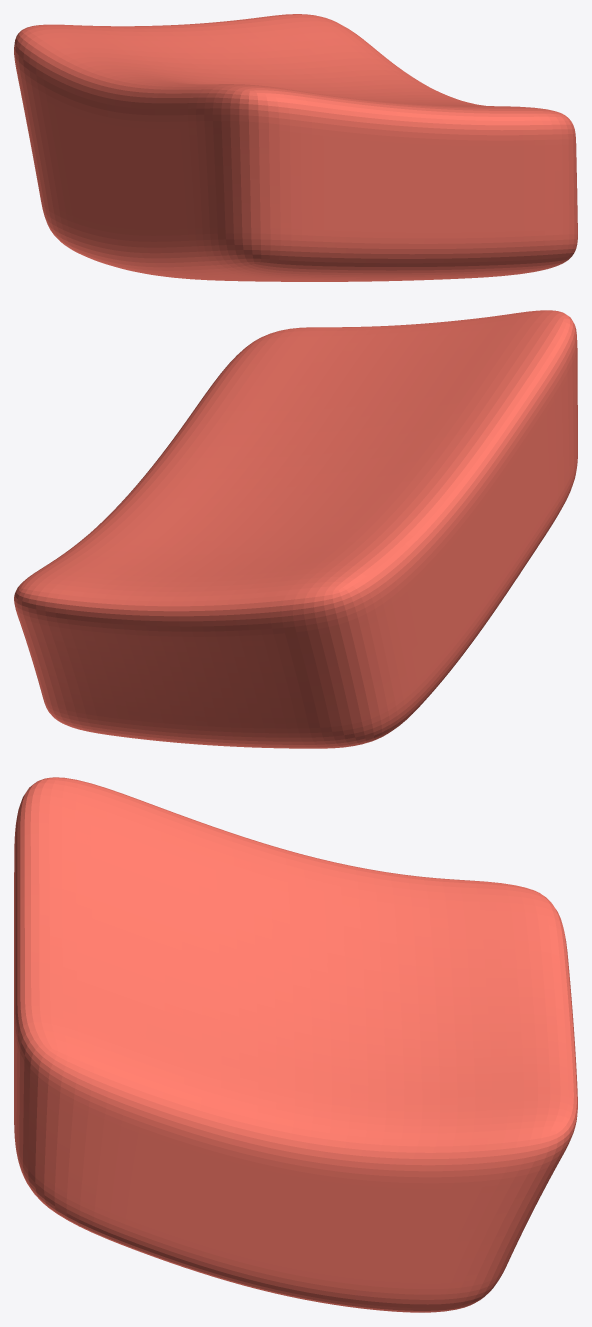
3 views of the same model, one above another, from view 1: azimuth 30°, elevation 25°; view 2: azimuth 150°, elevation 25°; view 3: azimuth 270°, elevation 25° (orthographic). The views are drawn at different scales.
Visible parts, largest first — view 1: waves_1.046; view 2: waves_1.046; view 3: waves_1.046.
Boxes of the visible parts, box(x1,y1,x2,y2) form: waves_1.046: box(14, 14, 577, 281); waves_1.046: box(14, 310, 577, 748); waves_1.046: box(14, 777, 577, 1312).
Size of the model in its own units: 30.1 by 27.87 by 38.38.
